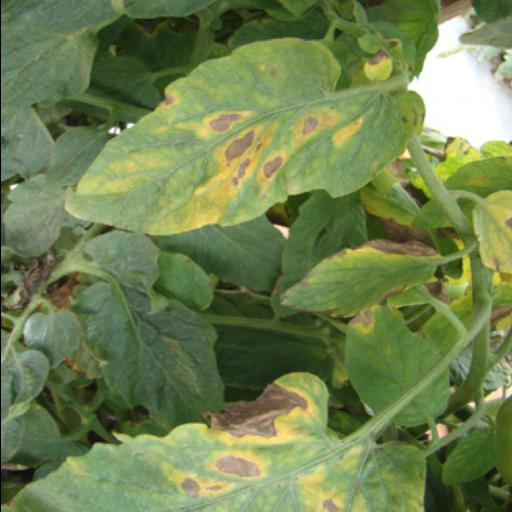disease_tomato: (66, 39, 427, 237), (8, 372, 431, 512), (274, 236, 444, 320)
